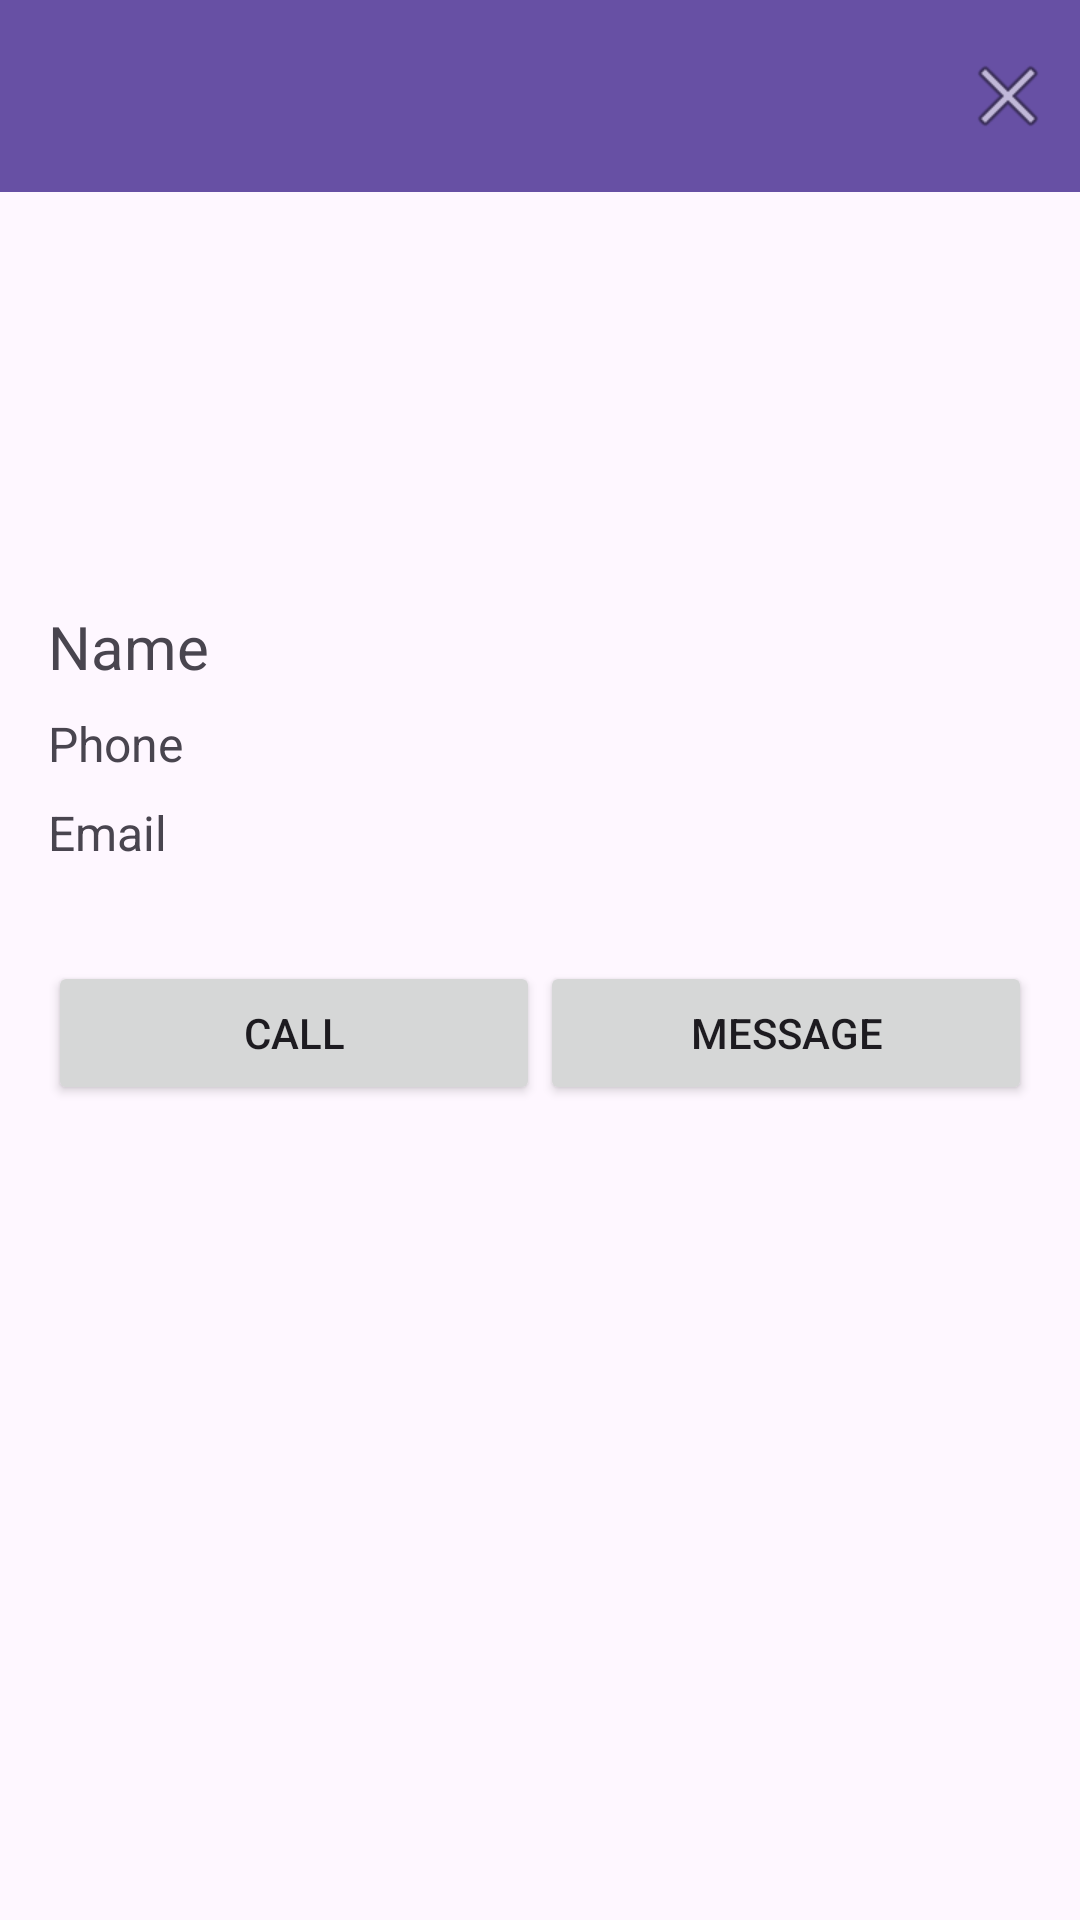

Icon click points for this 1080 x 1920 phone screenshot, format (x,y):
Close: (1008,96)
